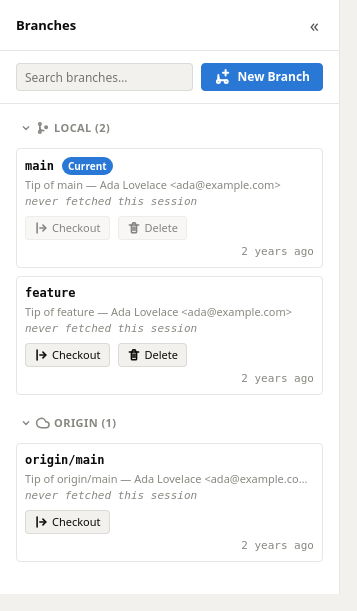
Test: BranchesPanel card drag-to-merge › Escape aborts an in-progress drag
Expected: the text "Local (2)" is shown, [54, 120, 110, 136]
Press the mouse on the list item that starts with "feature" at (170, 336), box [16, 276, 323, 395]
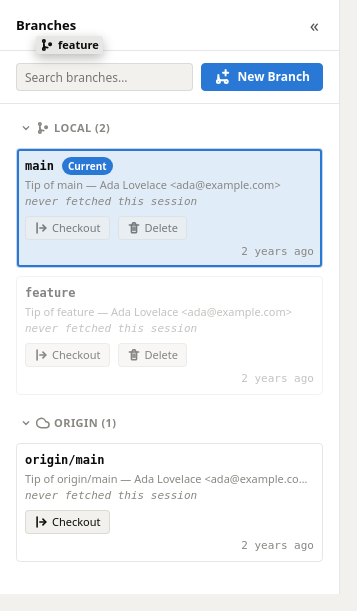
Result: the element with class "gh-drag-ghost" is shown at [36, 36, 103, 54]
Press Escape
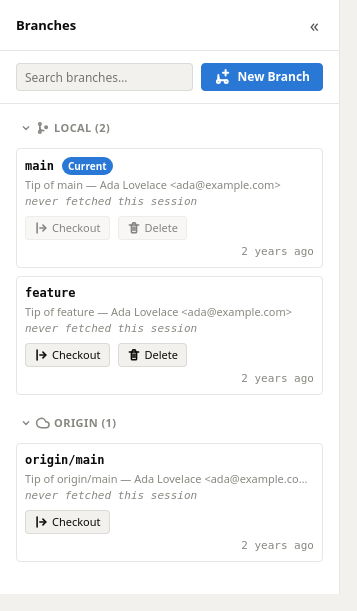
Result: the element with class "gh-drag-ghost" is gone
